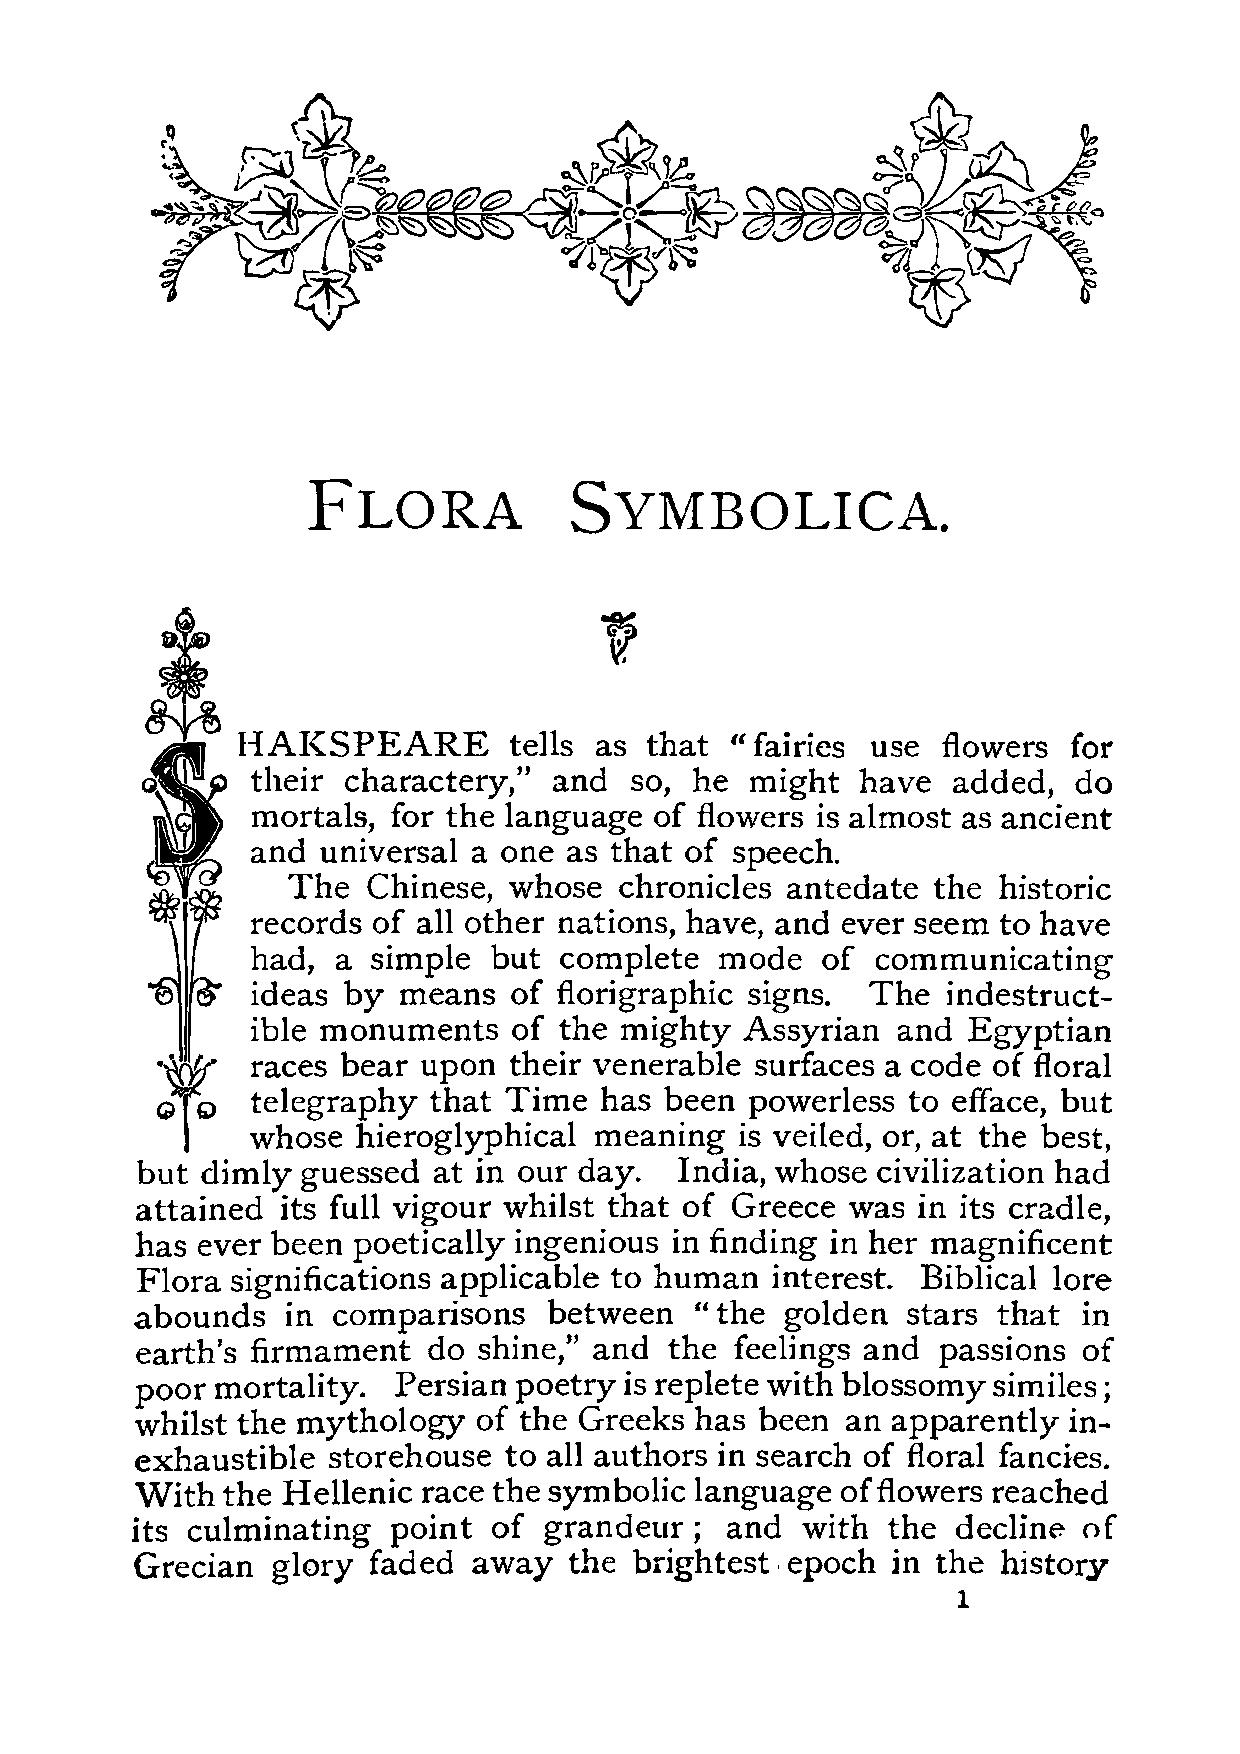chapter: (303, 472, 951, 533)
content: (130, 601, 1117, 1585)
content_pagenumber: (953, 1589, 969, 1610)
